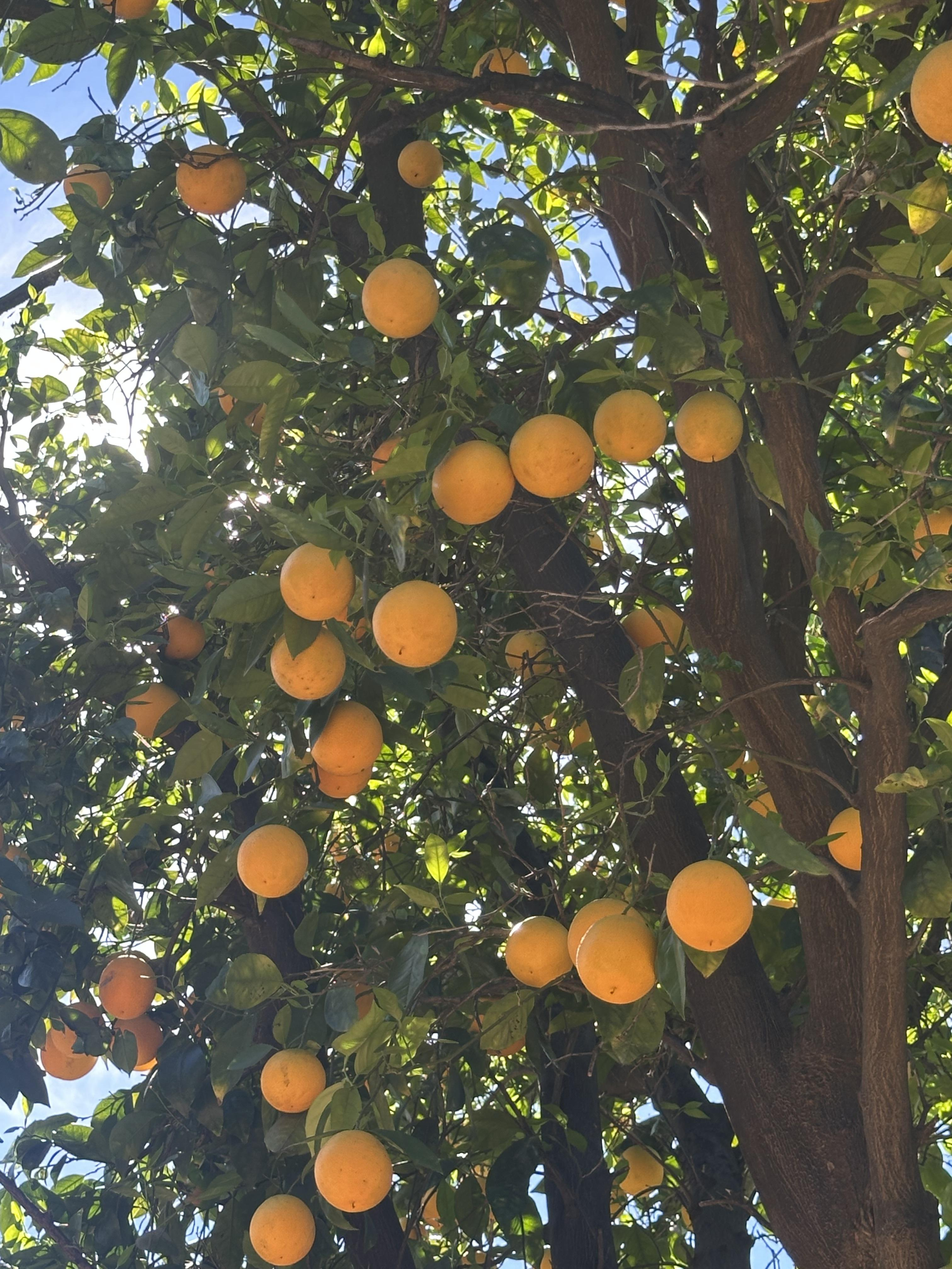orange: (666, 859, 753, 952), (576, 911, 656, 1005), (372, 580, 457, 668), (432, 440, 515, 525), (509, 414, 594, 497), (314, 1130, 392, 1213), (362, 258, 439, 339), (280, 543, 355, 620), (594, 390, 666, 463), (237, 825, 308, 898), (312, 701, 383, 774), (271, 631, 346, 699), (177, 144, 246, 215), (675, 391, 742, 462), (505, 916, 572, 987), (249, 1194, 315, 1266), (910, 41, 952, 144), (261, 1049, 326, 1114), (568, 898, 627, 964), (465, 998, 528, 1057), (472, 47, 531, 110), (99, 955, 156, 1019), (126, 679, 180, 737), (42, 1028, 101, 1081), (52, 1001, 105, 1057), (109, 1013, 165, 1065), (310, 751, 373, 797), (914, 506, 952, 574), (621, 608, 675, 654), (155, 612, 205, 661), (618, 1144, 663, 1195), (398, 140, 443, 189), (505, 631, 553, 676), (828, 807, 862, 870), (543, 708, 591, 752), (63, 163, 111, 207), (741, 784, 785, 830), (321, 605, 371, 640), (655, 604, 689, 655), (421, 1183, 458, 1229), (372, 434, 402, 486), (218, 387, 264, 419), (245, 402, 286, 435), (846, 555, 880, 593), (97, 0, 158, 21), (725, 747, 761, 776), (6, 844, 33, 881), (329, 833, 361, 862), (372, 832, 400, 862), (399, 1217, 430, 1244), (355, 981, 375, 1021), (462, 1250, 497, 1269), (611, 1179, 627, 1218), (325, 883, 348, 906), (588, 530, 602, 567), (532, 1245, 553, 1269), (683, 1205, 694, 1232), (0, 820, 3, 850)
